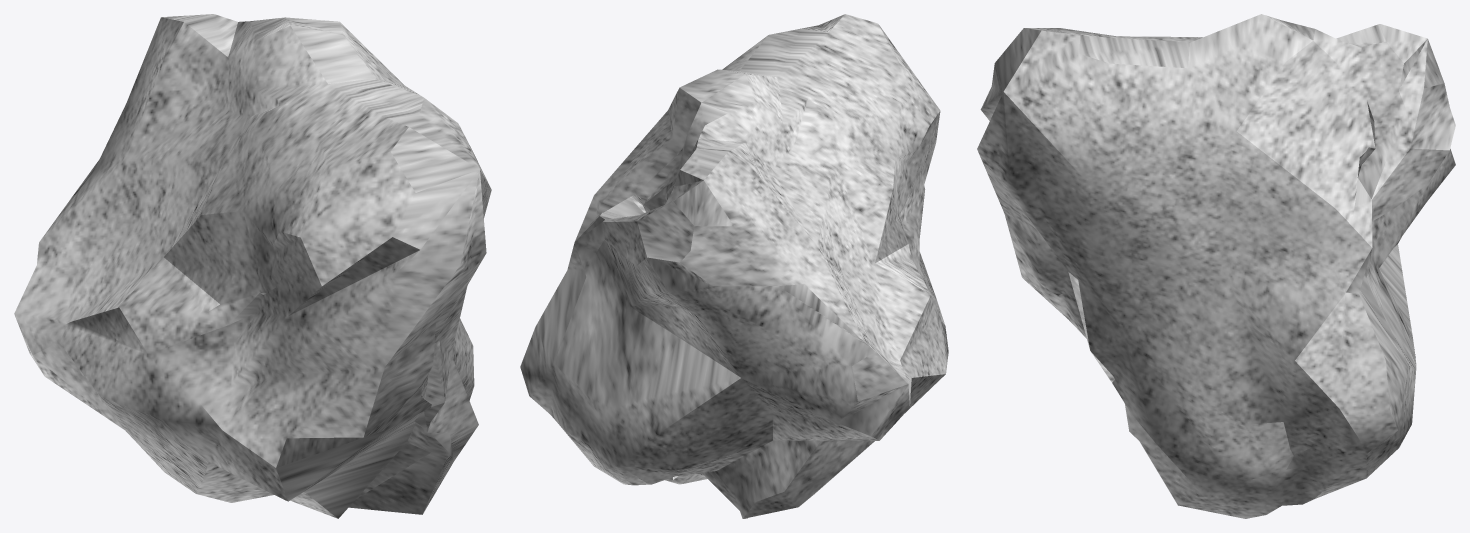
File: Rock_Asset_01.fbx
3 renders of one model, left to right at view 1: azimuth 30°, elevation 25°; view 2: azimuth 150°, elevation 25°; view 3: azimuth 270°, elevation 25°, orthographic. The views are drawn at different scales.
Visible parts, largest first — view 1: Rock_Asset; view 2: Rock_Asset; view 3: Rock_Asset.
Boxes of the visible parts, x1=… form: Rock_Asset: x1=14, y1=14, x2=491, y2=518; Rock_Asset: x1=520, y1=14, x2=948, y2=518; Rock_Asset: x1=977, y1=14, x2=1455, y2=518.
Size of the model in its own units: 1.98 by 2.18 by 2.02.
Materials: 1 (1 with a texture image).
